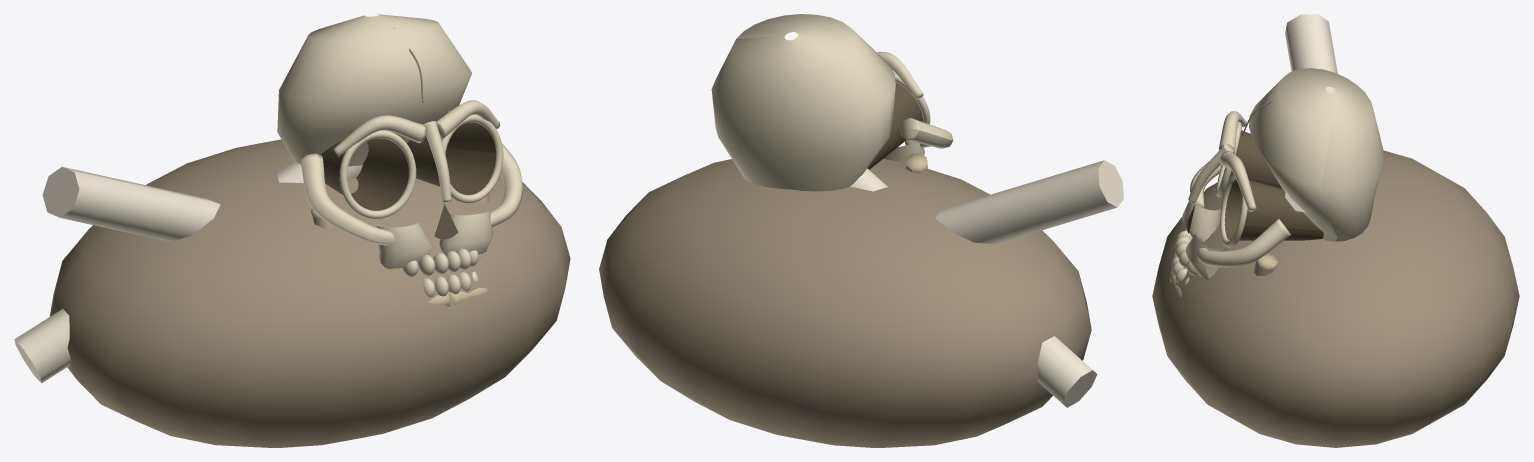
Rendered from props_p9__p9_bones.glb.
The picture shows the model from 3 angles, left to right: view 1: azimuth 30°, elevation 25°; view 2: azimuth 150°, elevation 25°; view 3: azimuth 270°, elevation 25°; orthographic projection. The views are drawn at different scales.
Parts seen in each view (by area): view 1: bones_cloth, cranial_dome, bones_long (×2), human_orbit_1_cavity, human_orbit_-1_cavity, zygomatic_-1, human_orbit_-1_rim, maxillary_-1, maxillary_1, brow_-1, zygomatic_1, human_orbit_1_rim (+2 smaller); view 2: bones_cloth, cranial_dome, bones_long (×2), human_orbit_-1_cavity, zygomatic_-1, brow_-1; view 3: bones_cloth, cranial_dome, human_orbit_1_cavity, bones_long, zygomatic_1, human_orbit_-1_cavity, maxillary_-1, brow_1, human_orbit_1_rim, maxillary_1, nasal_bridge, brow_-1 (+2 smaller).
Part boxes in pixels (box(x1,y1,x2,y2)): bones_cloth: box(49, 139, 570, 447); cranial_dome: box(277, 14, 472, 166); bones_long (×2): box(14, 110, 450, 383); human_orbit_1_cavity: box(407, 122, 495, 194); human_orbit_-1_cavity: box(321, 138, 408, 210); zygomatic_-1: box(300, 153, 394, 245); human_orbit_-1_rim: box(339, 130, 416, 219); maxillary_-1: box(376, 222, 432, 268); maxillary_1: box(439, 210, 493, 254); brow_-1: box(333, 115, 426, 156); zygomatic_1: box(490, 143, 522, 226); human_orbit_1_rim: box(441, 114, 503, 203); bones_cloth: box(599, 159, 1091, 447); cranial_dome: box(711, 14, 895, 191); bones_long (×2): box(850, 160, 1123, 407); human_orbit_-1_cavity: box(867, 82, 922, 169); zygomatic_-1: box(900, 117, 953, 148); brow_-1: box(877, 52, 923, 99); bones_cloth: box(1152, 150, 1519, 447); cranial_dome: box(1249, 68, 1384, 241); human_orbit_1_cavity: box(1224, 179, 1323, 240); bones_long: box(1285, 14, 1337, 93); zygomatic_1: box(1197, 219, 1290, 267); human_orbit_-1_cavity: box(1224, 130, 1282, 188); maxillary_-1: box(1182, 201, 1220, 243); brow_1: box(1220, 151, 1256, 211); human_orbit_1_rim: box(1220, 173, 1247, 247); maxillary_1: box(1185, 233, 1227, 279); nasal_bridge: box(1188, 143, 1234, 203); brow_-1: box(1219, 111, 1246, 153).
Bounding box in the file's own units: 0.2058 × 0.1489 × 0.144.
